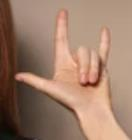back: (14, 9, 112, 112)
